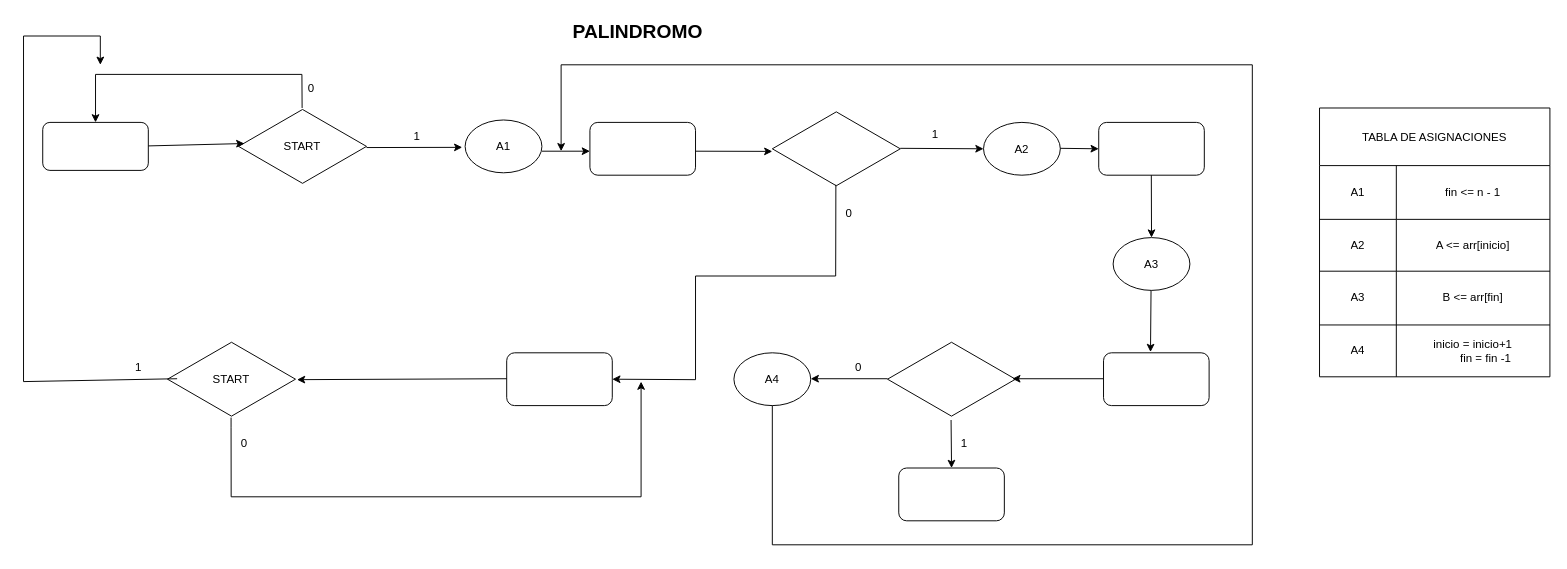
This 1567x569 diagram has some shape labels left out. The centre of each missing label's shape, as x and y in pixels:
"arr[inicio] != arr[fin] A != B" goes at pixel 951 379.
"IDLE" goes at pixel 95 145.
"inicio < fin" goes at pixel 835 148.
"WHILE" goes at pixel 642 148.
